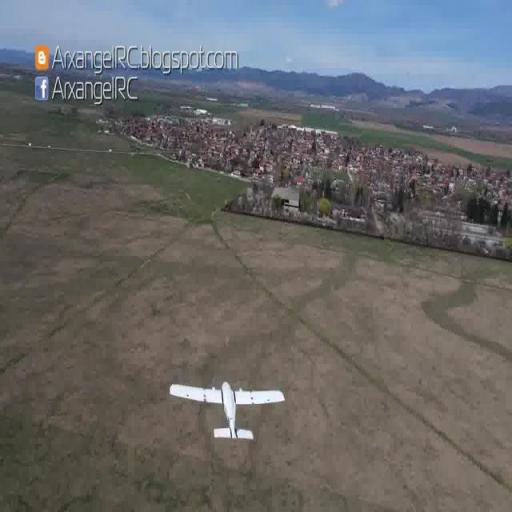uav: (167, 368, 290, 448)
